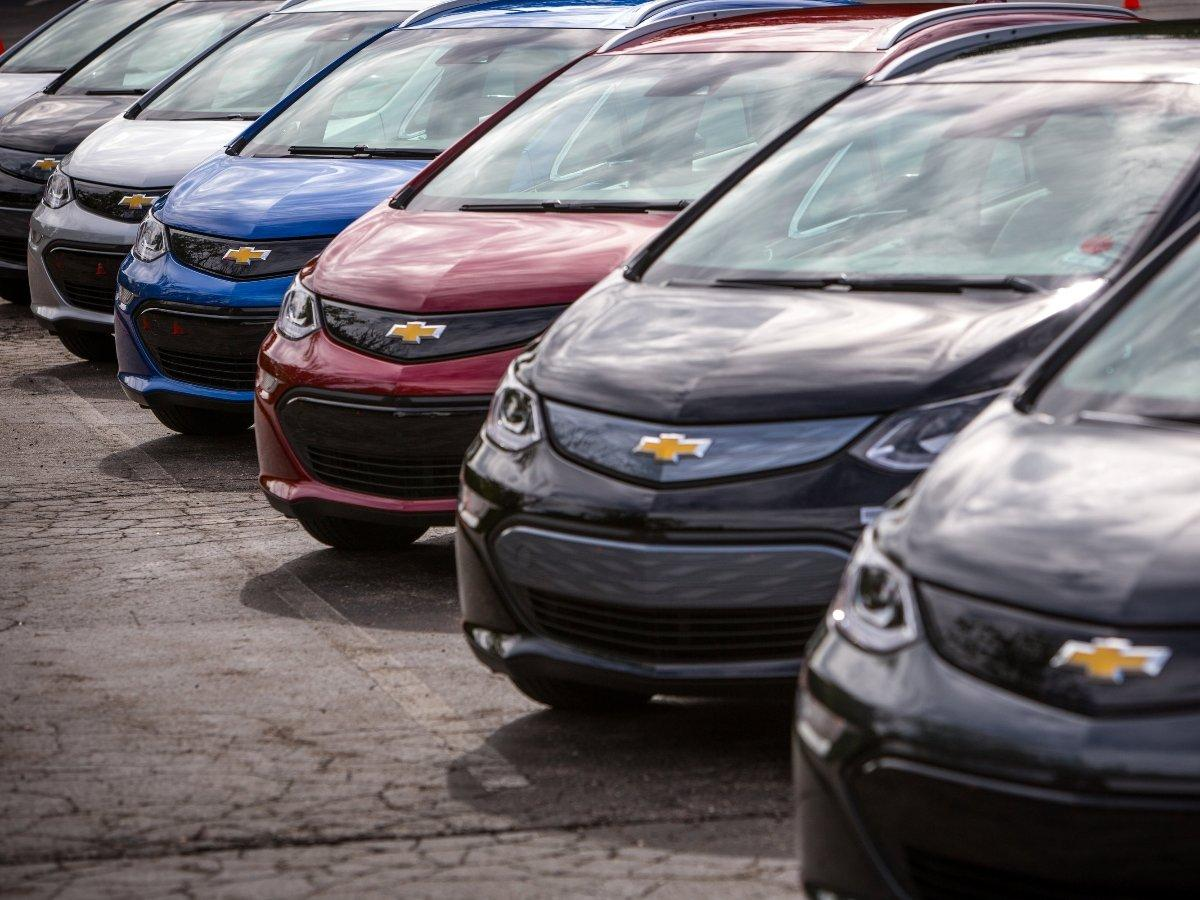windshield: (623, 68, 1200, 298), (396, 32, 843, 220), (236, 15, 585, 168)
